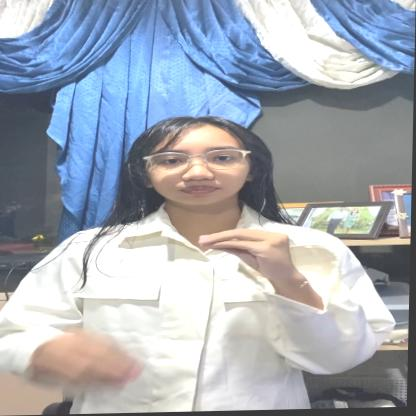Fix: (21, 216, 324, 400)
